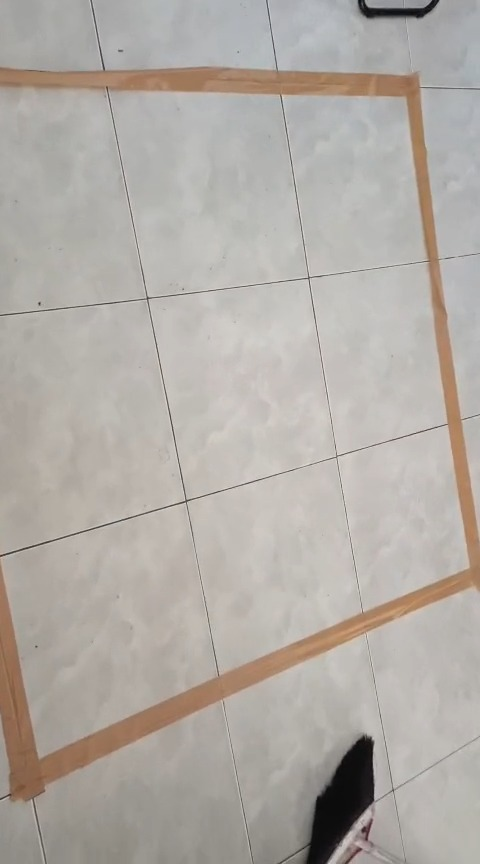floor marking: (0, 68, 479, 800)
